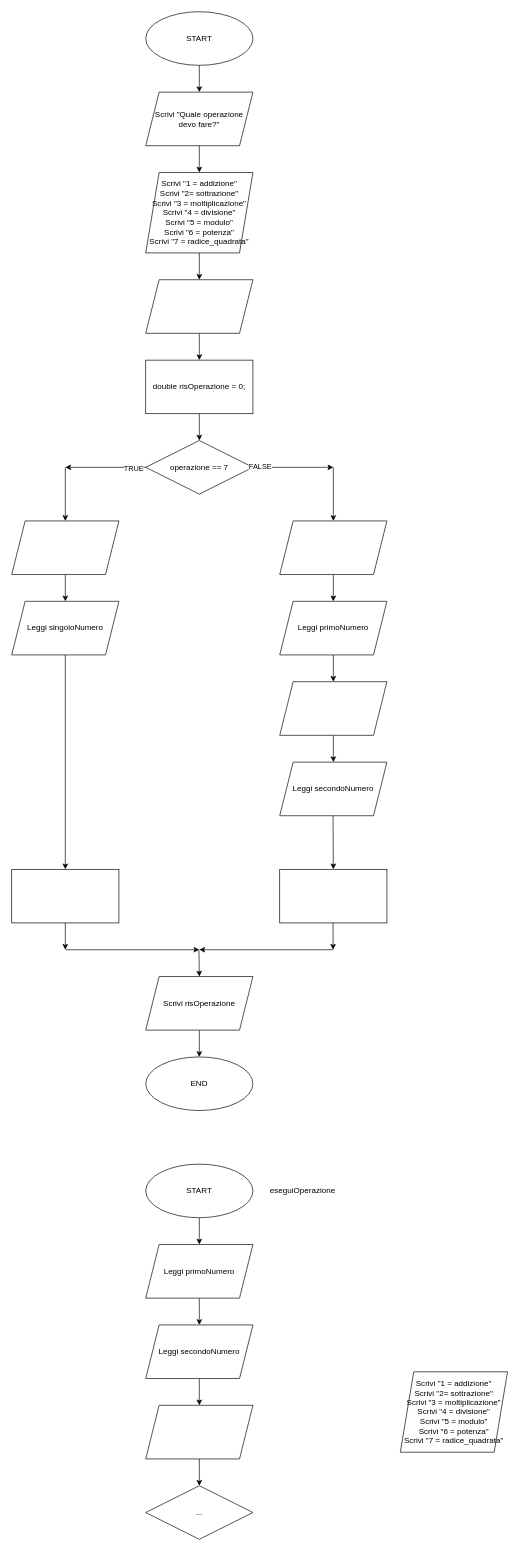
Some shapes in this 519 by 1551 pixel diagram are drawn without their labels. Here are the shapes that lost their labels. From the top down, the centre of each, then its label:
point 199,306: int sceltaOperazione
point 65,547: Scrivi "Inserisci il numero"
point 333,547: Scrivi "Inserisci il primo numero"
point 333,708: Scrivi "Inserisci il secondo numero"
point 65,896: risOperazione = Math.sqrt(singoloNumero);
point 333,896: risOperazione = eseguiOperazione(primoNumero, secondoNumero, sceltaOperazione)
point 199,1432: Leggi sceltaOperazione
